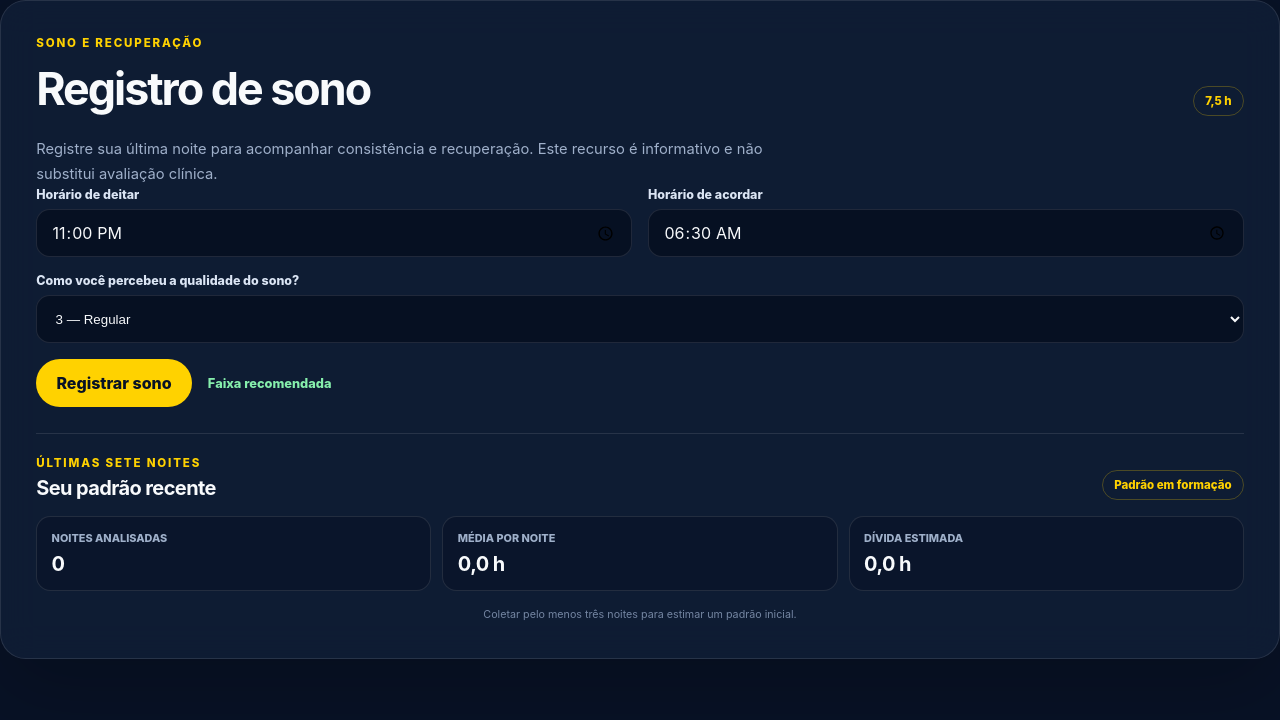
Test case: SleepTrackingPanel › keeps the panel usable when a time field is temporarily empty
Clear the time field labelled "Horário de deitar": {"x": 334, "y": 233} [36, 209, 632, 257]
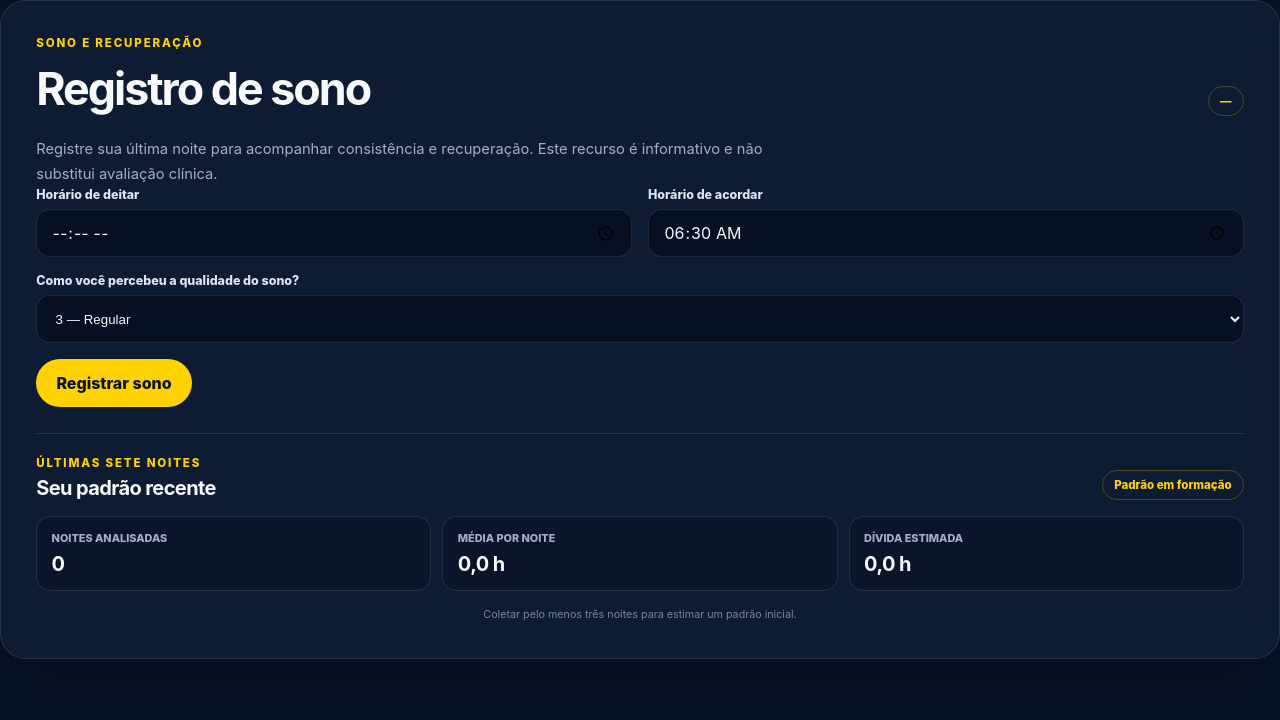
Expected: the heading "Registro de sono" is shown, [36, 62, 370, 116]
Click the button "Registrar sono": {"x": 114, "y": 383} [36, 359, 192, 407]
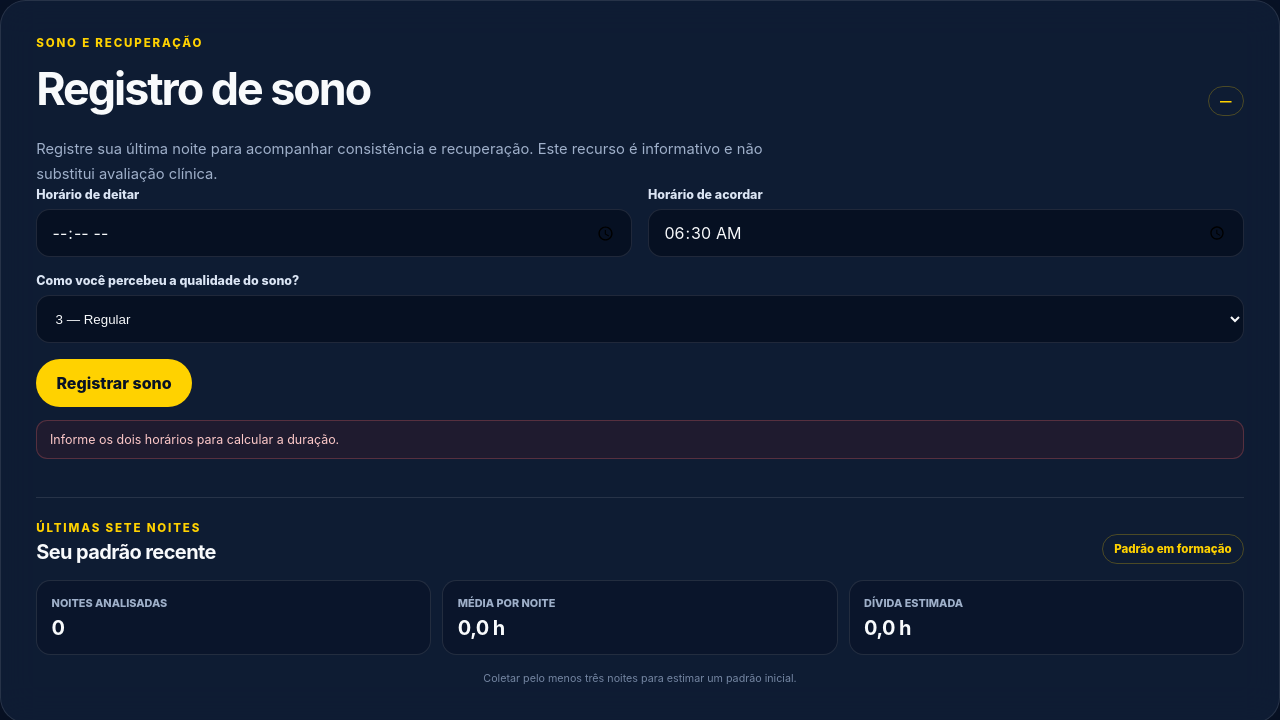
Result: the message shows "Informe os dois horários" at [50, 432, 339, 447]
